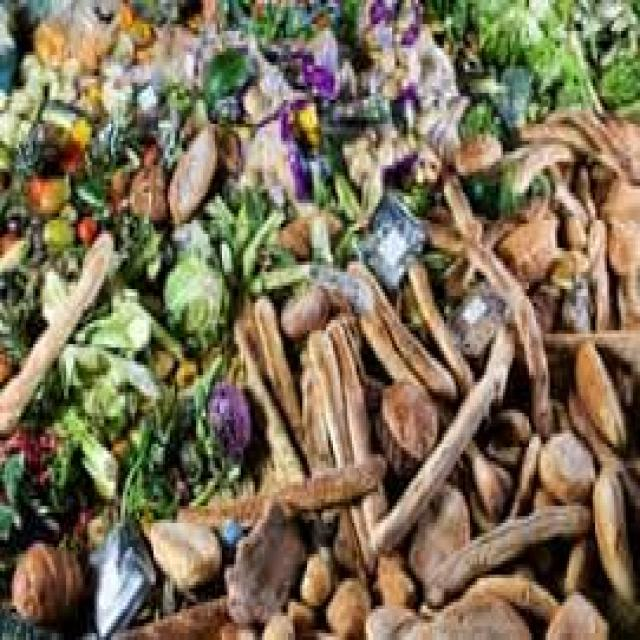food_waste: (33, 56, 607, 631)
